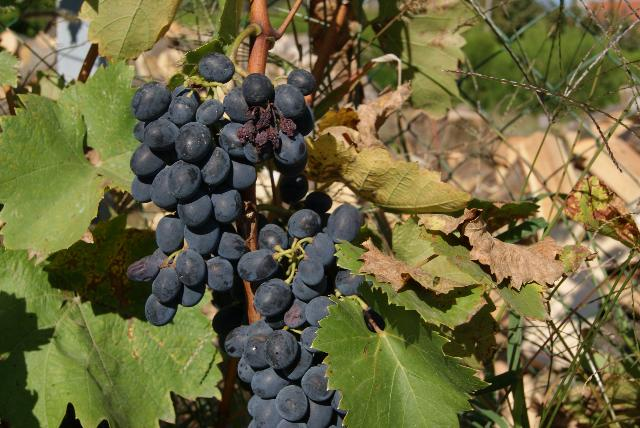grapes: (128, 70, 315, 326), (236, 191, 384, 428)
